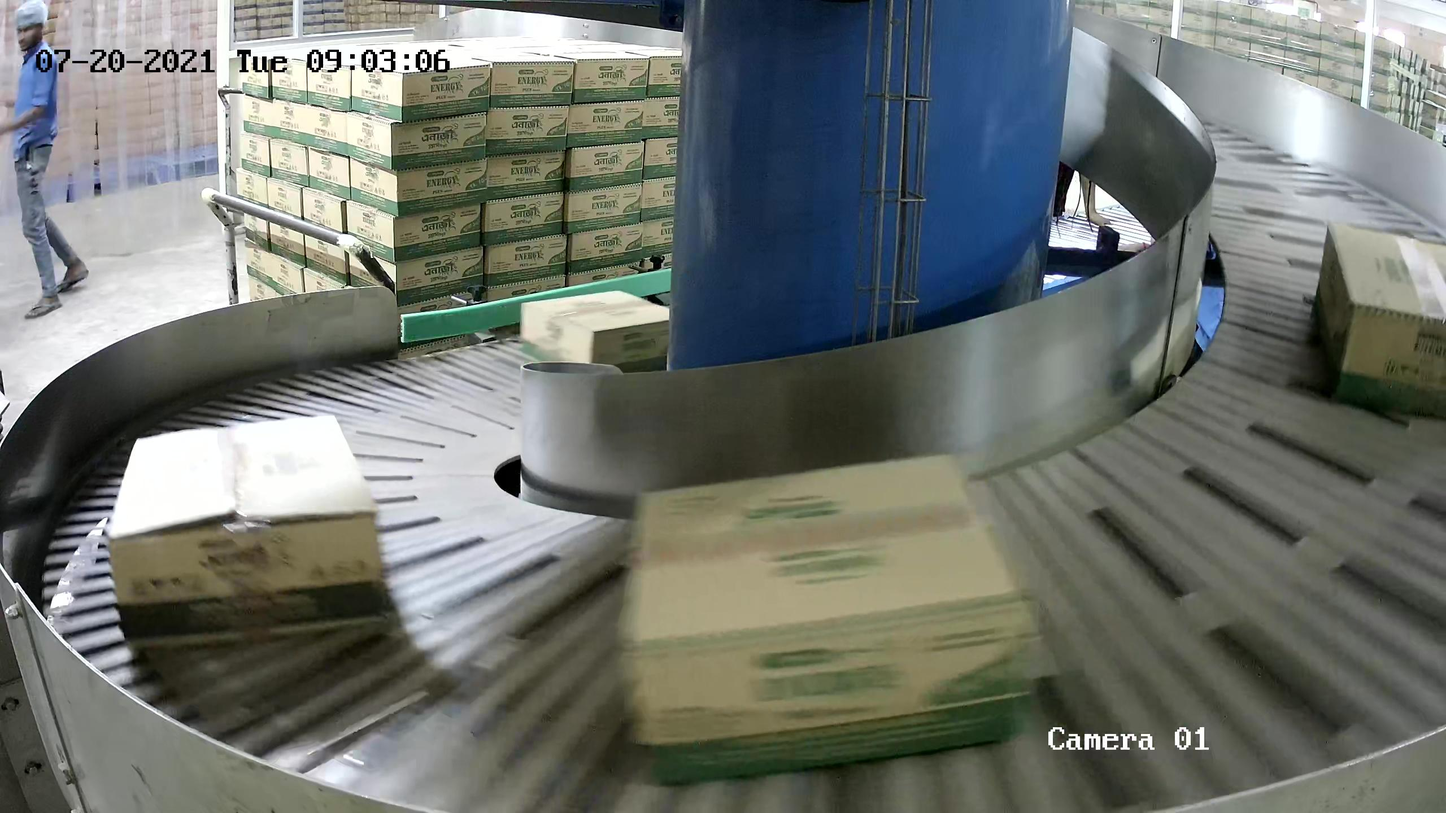Box: (613, 450, 1047, 786), (106, 412, 388, 647), (1312, 218, 1446, 420), (518, 288, 670, 373)
